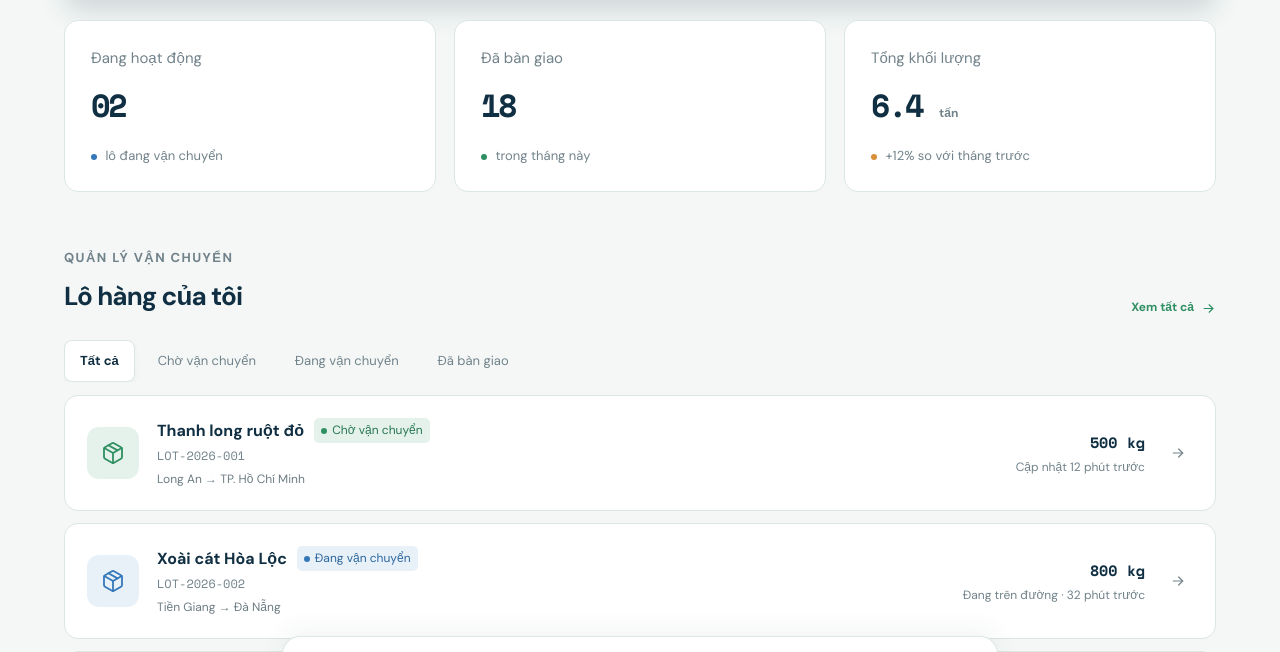
HomePage › filters shipments by status
(page scrolled)
Expected: the heading "Xoài cát Hòa Lộc" is shown, top-left (157, 546), bottom-right (287, 572)
Click the tab "Đang vận chuyển" at (347, 361), box top-left (279, 340), bottom-right (415, 382)
(page scrolled)
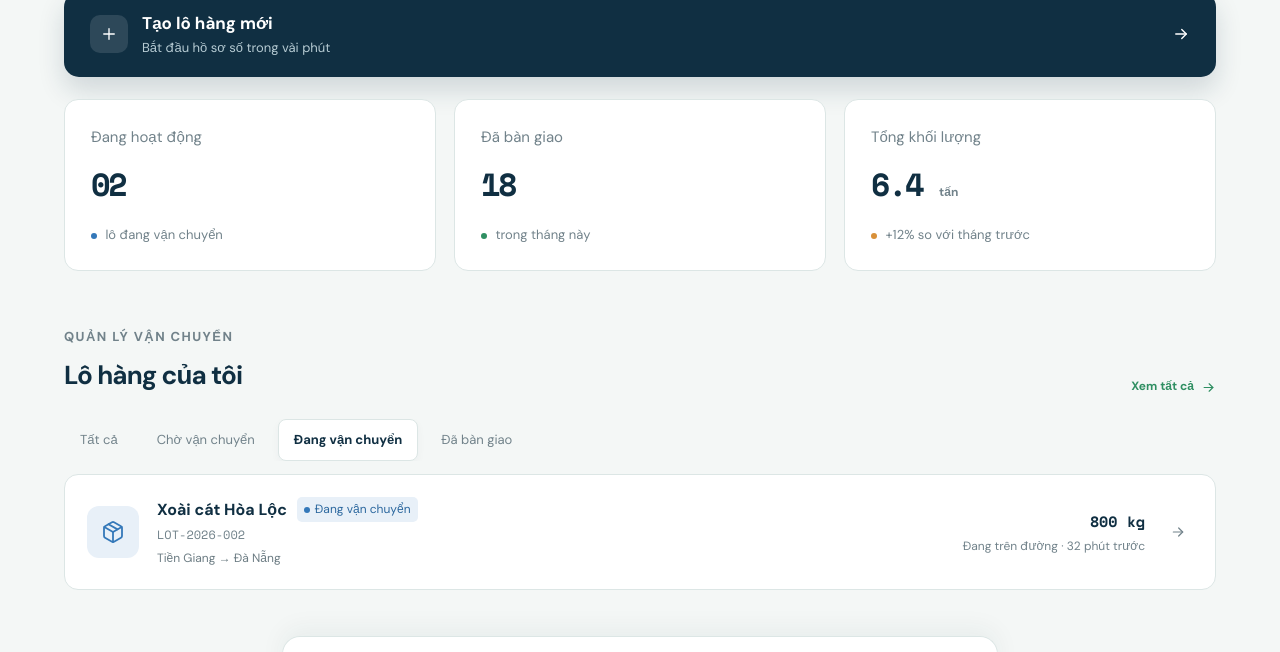
Expected: the heading "Xoài cát Hòa Lộc" is shown, top-left (157, 497), bottom-right (287, 522)
Expected: the link "Thanh long ruột đỏ" is gone
